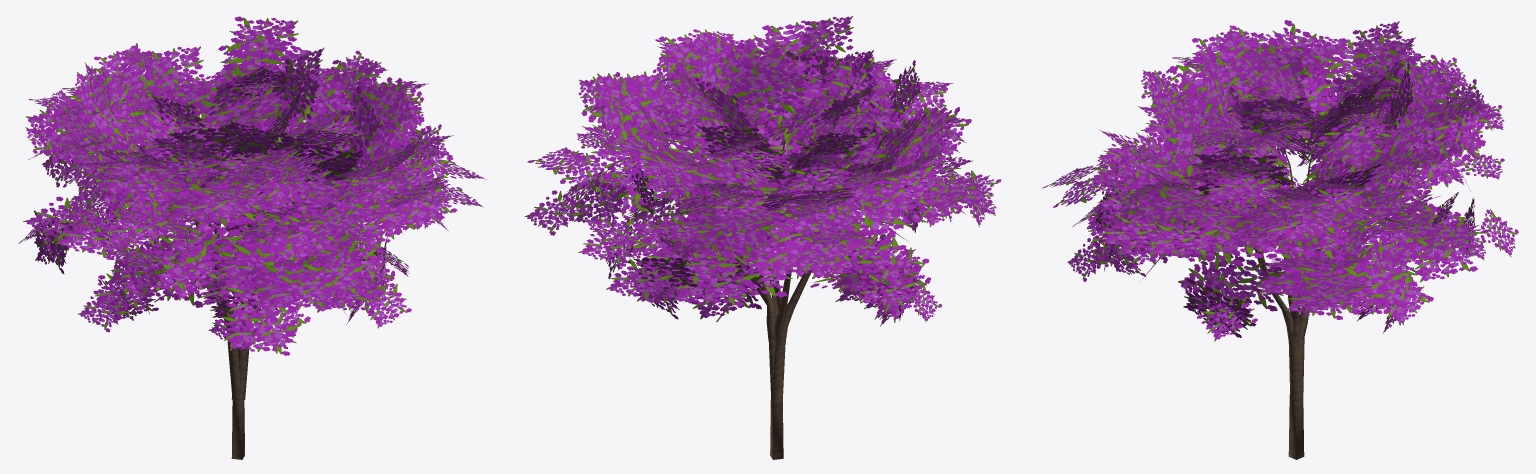
File: model_quaresmeira_01.fbx
3 renders of one model, left to right at view 1: azimuth 30°, elevation 25°; view 2: azimuth 150°, elevation 25°; view 3: azimuth 270°, elevation 25°, orthographic.
Parts seen in each view (by area): view 1: Quaresmeira; view 2: Quaresmeira; view 3: Quaresmeira.
Boxes of the visible parts, x1=… form: Quaresmeira: x1=18, y1=16, x2=486, y2=459; Quaresmeira: x1=524, y1=16, x2=1001, y2=459; Quaresmeira: x1=1042, y1=20, x2=1518, y2=459.
Bounding box in the file's own units: 10.2 × 9.16 × 10.02.
2 materials, 2 textured.
